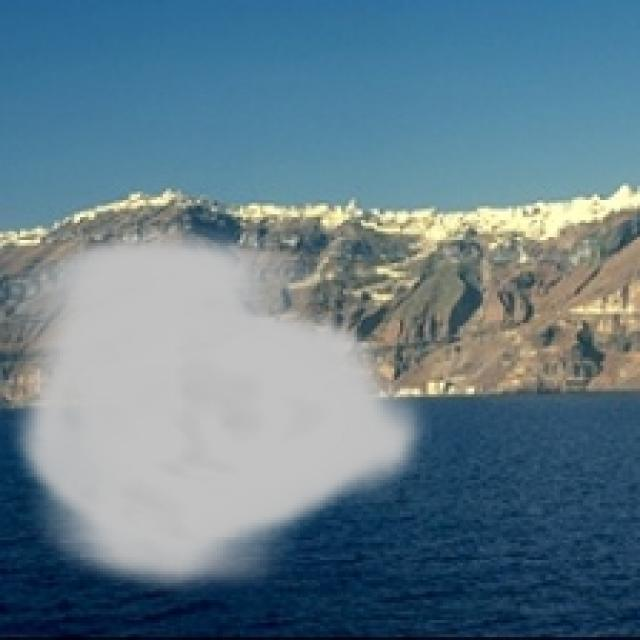smoke: (9, 226, 432, 600)
